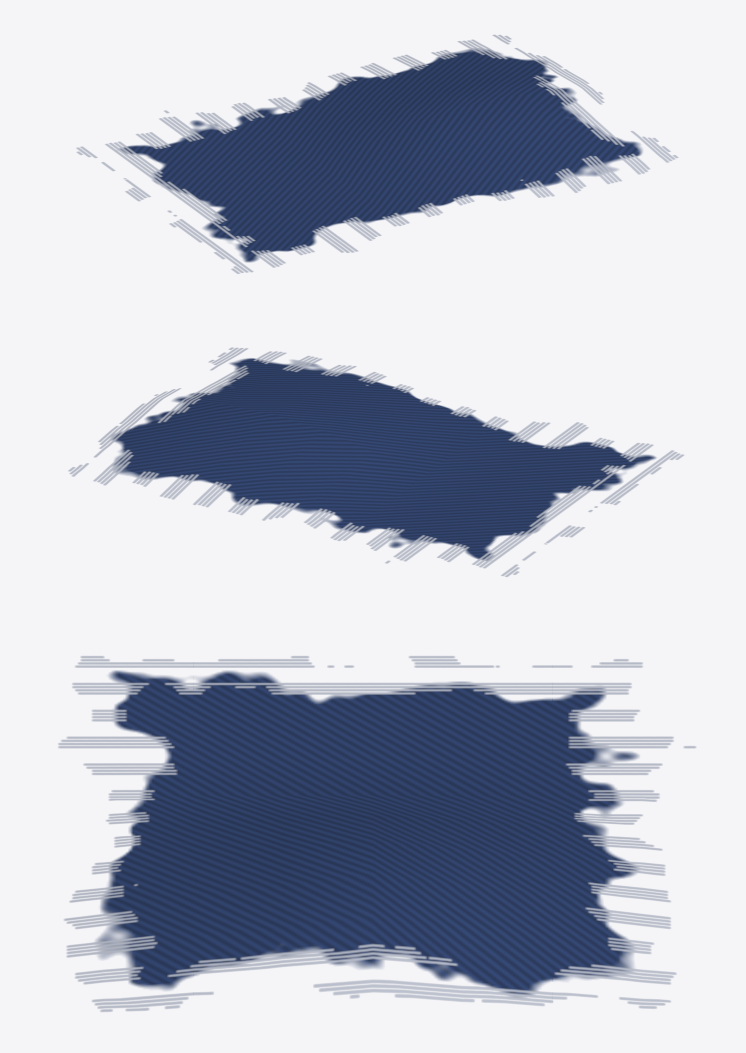
File: torn_fabric.glb
3 renders of one model, top to bottom at view 1: azimuth 30°, elevation 25°; view 2: azimuth 150°, elevation 25°; view 3: azimuth 270°, elevation 25°, orthographic. The views are drawn at different scales.
Parts seen in each view (by area): view 1: torn_fabric; view 2: torn_fabric; view 3: torn_fabric.
Boxes of the visible parts, box(x1,y1,x2,y2) form: torn_fabric: box(76, 35, 678, 273); torn_fabric: box(68, 347, 683, 576); torn_fabric: box(58, 656, 695, 1011).
Bounding box in the file's own units: 0.08 × 0.00398 × 0.06.
Materials: 1 (1 with a texture image).
